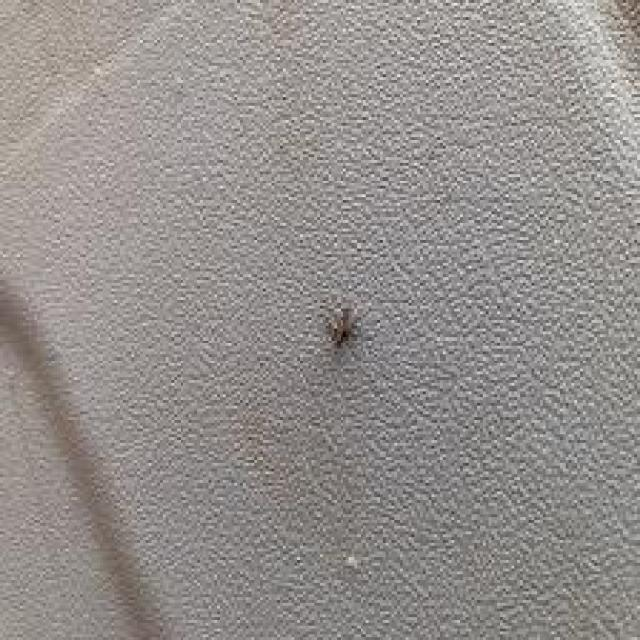Culex: (327, 306, 359, 348)
